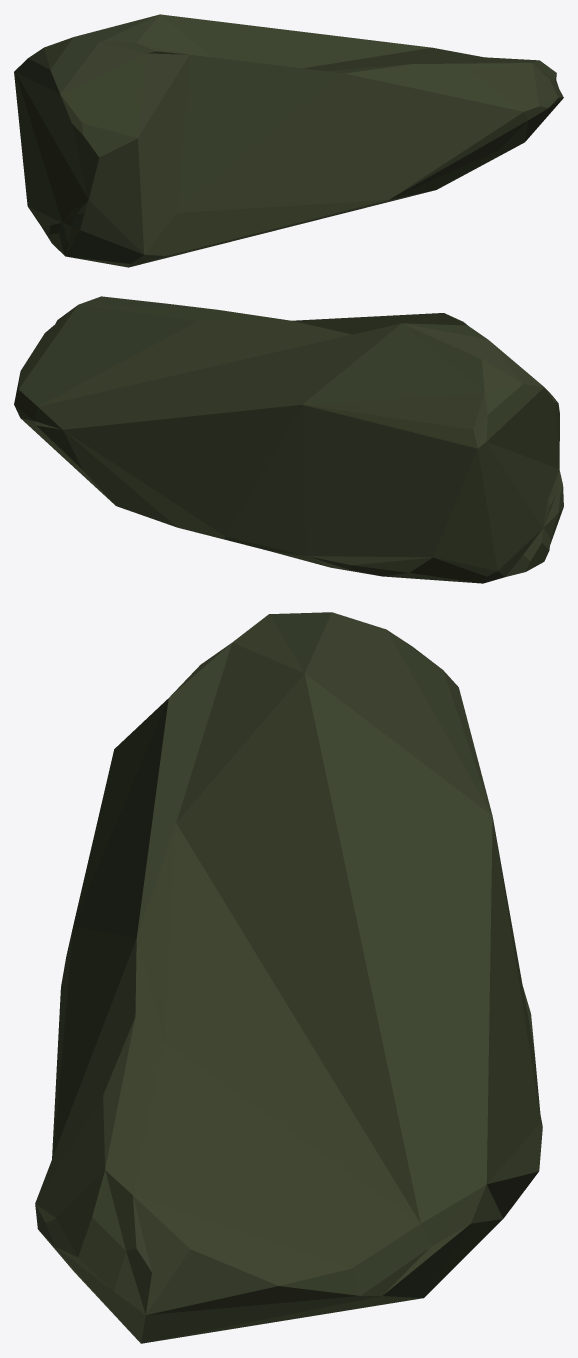
File: SM_rock_01.fbx
The picture shows the model from 3 angles, top to bottom: view 1: azimuth 30°, elevation 25°; view 2: azimuth 150°, elevation 25°; view 3: azimuth 270°, elevation 25°; orthographic projection. The views are drawn at different scales.
Visible parts, largest first — view 1: rock_01; view 2: rock_01; view 3: rock_01.
Part boxes in pixels (x1,y1,x2,y2): rock_01: [14, 14, 563, 267]; rock_01: [14, 296, 563, 583]; rock_01: [35, 612, 542, 1343].
Size of the model in its own units: 203 by 82.07 by 93.38.
